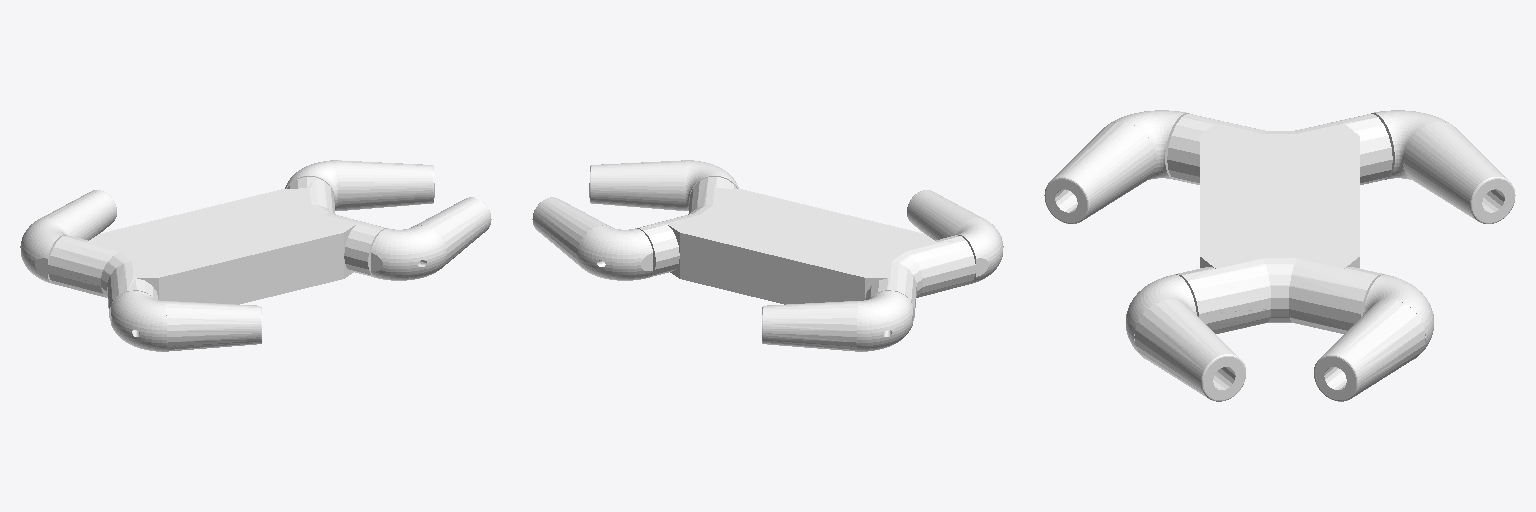
The robot description file, URDF, robot "28_degree":
<?xml version="1.0" encoding="utf-8"?>
<!-- This URDF was automatically created by SolidWorks to URDF Exporter! Originally created by [author] ([email redacted]) 
     Commit Version: 1.5.1-0-g916b5db  Build Version: 1.5.7152.31018
     For more information, please see http://wiki.ros.org/sw_urdf_exporter -->
<robot
  name="28_degree">
  <link
    name="base_link">
    <inertial>
      <origin
        xyz="3.4694E-17 5.2719E-08 6.9044E-08"
        rpy="0 0 0" />
      <mass
        value="2.942" />
      <inertia
        ixx="0.0093436"
        ixy="2.6379E-08"
        ixz="-1.5248E-10"
        iyy="0.0487381"
        iyz="2.1449E-18"
        izz="0.0556430" />
    </inertial>
    <visual>
      <origin
        xyz="0 0 0"
        rpy="0 0 0" />
      <geometry>
        <mesh
          filename="package://28_degree/meshes/base_link.STL" />
      </geometry>
      <material
        name="">
        <color
          rgba="1 1 1 1" />
      </material>
    </visual>
    <collision>
      <origin
        xyz="0 0 0"
        rpy="0 0 0" />
      <geometry>
        <mesh
          filename="package://28_degree/meshes/base_link.STL" />
      </geometry>
    </collision>
  </link>
  <link
    name="left_front_link">
    <inertial>
      <origin
        xyz="-8.9942E-08 0.067087 -0.0051134"
        rpy="0 0 0" />
      <mass
        value="0.092" />
      <inertia
        ixx="0.0002604"
        ixy="1.4854E-10"
        ixz="7.7428E-10"
        iyy="0.0000790"
        iyz="-0.0000723"
        izz="0.0002311" />
    </inertial>
    <visual>
      <origin
        xyz="0 0 0"
        rpy="0 0 0" />
      <geometry>
        <mesh
          filename="package://28_degree/meshes/left_front_link.STL" />
      </geometry>
      <material
        name="">
        <color
          rgba="1 1 1 1" />
      </material>
    </visual>
    <collision>
      <origin
        xyz="0 0 0"
        rpy="0 0 0" />
      <geometry>
        <mesh
          filename="package://28_degree/meshes/left_front_link.STL" />
      </geometry>
    </collision>
  </link>
  <joint
    name="left_front_leg"
    type="continuous">
    <origin
      xyz="0.17836 0.090944 0"
      rpy="1.5708 1.5708 0" />
    <parent
      link="base_link" />
    <child
      link="left_front_link" />
    <axis
      xyz="0 0.46947 -0.88295" />
    <limit
      effort="5"
      velocity="487" />
  </joint>
  <link
    name="right_front_link">
    <inertial>
      <origin
        xyz="8.9942E-08 0.067087 0.0051134"
        rpy="0 0 0" />
      <mass
        value="0.092" />
      <inertia
        ixx="0.0002604"
        ixy="-1.4854E-10"
        ixz="7.7428E-10"
        iyy="0.0000790"
        iyz="0.0000723"
        izz="0.0002311" />
    </inertial>
    <visual>
      <origin
        xyz="0 0 0"
        rpy="0 0 0" />
      <geometry>
        <mesh
          filename="package://28_degree/meshes/right_front_link.STL" />
      </geometry>
      <material
        name="">
        <color
          rgba="1 1 1 1" />
      </material>
    </visual>
    <collision>
      <origin
        xyz="0 0 0"
        rpy="0 0 0" />
      <geometry>
        <mesh
          filename="package://28_degree/meshes/right_front_link.STL" />
      </geometry>
    </collision>
  </link>
  <joint
    name="right_front_leg"
    type="continuous">
    <origin
      xyz="0.17836 -0.090944 0"
      rpy="1.5708 1.5708 0" />
    <parent
      link="base_link" />
    <child
      link="right_front_link" />
    <axis
      xyz="0 0.46947 0.88295" />
    <limit
      effort="5"
      velocity="487" />
  </joint>
  <link
    name="right_back_link">
    <inertial>
      <origin
        xyz="8.1709E-08 0.056834 0.03601"
        rpy="0 0 0" />
      <mass
        value="0.092" />
      <inertia
        ixx="0.0002604"
        ixy="-4.5205E-10"
        ixz="6.0402E-10"
        iyy="0.0000526"
        iyz="-2.27E-05"
        izz="0.0002575" />
    </inertial>
    <visual>
      <origin
        xyz="0 0 0"
        rpy="0 0 0" />
      <geometry>
        <mesh
          filename="package://28_degree/meshes/right_back_link.STL" />
      </geometry>
      <material
        name="">
        <color
          rgba="1 1 1 1" />
      </material>
    </visual>
    <collision>
      <origin
        xyz="0 0 0"
        rpy="0 0 0" />
      <geometry>
        <mesh
          filename="package://28_degree/meshes/right_back_link.STL" />
      </geometry>
    </collision>
  </link>
  <joint
    name="right_back_leg"
    type="continuous">
    <origin
      xyz="-0.17836 -0.090944 0"
      rpy="2.0595 1.5708 0" />
    <parent
      link="base_link" />
    <child
      link="right_back_link" />
    <axis
      xyz="0 0 1" />
    <limit
      effort="5"
      velocity="487" />
  </joint>
  <link
    name="left_back_link">
    <inertial>
      <origin
        xyz="-8.1709E-08 0.033276 -0.058477"
        rpy="0 0 0" />
      <mass
        value="0.092" />
      <inertia
        ixx="0.0002604"
        ixy="6.827E-10"
        ixz="3.2109E-10"
        iyy="0.0001166"
        iyz="0.0000976"
        izz="0.0001936" />
    </inertial>
    <visual>
      <origin
        xyz="0 0 0"
        rpy="0 0 0" />
      <geometry>
        <mesh
          filename="package://28_degree/meshes/left_back_link.STL" />
      </geometry>
      <material
        name="">
        <color
          rgba="1 1 1 1" />
      </material>
    </visual>
    <collision>
      <origin
        xyz="0 0 0"
        rpy="0 0 0" />
      <geometry>
        <mesh
          filename="package://28_degree/meshes/left_back_link.STL" />
      </geometry>
    </collision>
  </link>
  <joint
    name="left_back_leg"
    type="continuous">
    <origin
      xyz="-0.17836 0.090944 0"
      rpy="1.5708 1.5708 0" />
    <parent
      link="base_link" />
    <child
      link="left_back_link" />
    <axis
      xyz="0 -0.46947 -0.88295" />
    <limit
      effort="5"
      velocity="487" />
  </joint>
</robot>

--- Render facts (derived) ---
Views: 3 orthographic renders of the robot side by side, from view 1: azimuth 30°, elevation 25°; view 2: azimuth 150°, elevation 25°; view 3: azimuth 270°, elevation 25°.
Robot: 28_degree — 5 links, 4 joints (4 continuous); root link base_link; default pose: every joint at zero.
Visible links, largest first — view 1: base_link, right_back_link, right_front_link, left_front_link, left_back_link; view 2: base_link, left_back_link, left_front_link, right_front_link, right_back_link; view 3: base_link, right_back_link, left_back_link, left_front_link, right_front_link.
Link boxes in pixels (box(x1,y1,x2,y2)): base_link: box(48, 177, 386, 320); right_back_link: box(111, 291, 261, 351); right_front_link: box(371, 197, 491, 280); left_front_link: box(285, 160, 434, 210); left_back_link: box(20, 190, 116, 283); base_link: box(637, 177, 975, 320); left_back_link: box(762, 291, 912, 351); left_front_link: box(532, 197, 652, 280); right_front_link: box(589, 160, 738, 210); right_back_link: box(907, 190, 1003, 283); base_link: box(1167, 114, 1392, 333); right_back_link: box(1044, 110, 1189, 223); left_back_link: box(1371, 110, 1515, 223); left_front_link: box(1314, 274, 1433, 401); right_front_link: box(1126, 274, 1245, 401).
Size in the robot's own frame: 0.5632 by 0.4424 by 0.064 metres.
Meshes: 5 distinct files referenced, 5 mesh visuals loaded (5 binary STL).